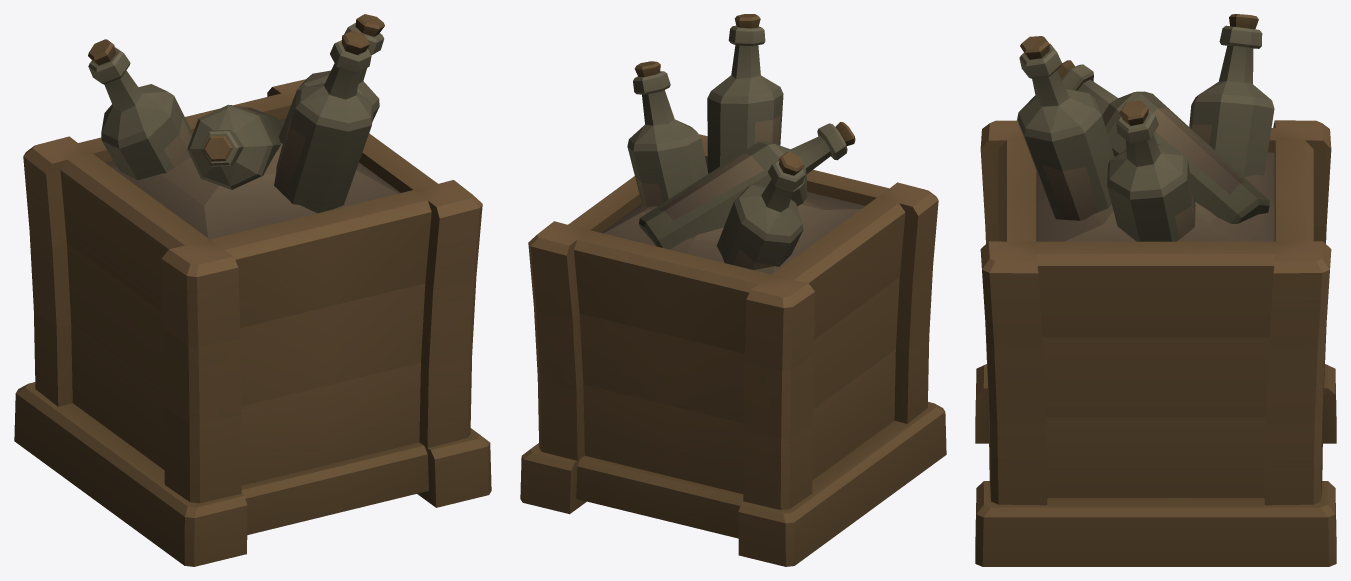
Rendered from SM_EN_Crate_4.fbx.
3 renders of one model, left to right at view 1: azimuth 30°, elevation 25°; view 2: azimuth 150°, elevation 25°; view 3: azimuth 270°, elevation 25°, orthographic. The views are drawn at different scales.
Parts seen in each view (by area): view 1: SM_EN_Crate_4; view 2: SM_EN_Crate_4; view 3: SM_EN_Crate_4.
Boxes of the visible parts, x1,y1,x2,y2 form: SM_EN_Crate_4: (14,14,491,566); SM_EN_Crate_4: (520,14,946,566); SM_EN_Crate_4: (975,14,1336,566).
Bounding box in the file's own units: 92.76 × 92.76 × 134.
